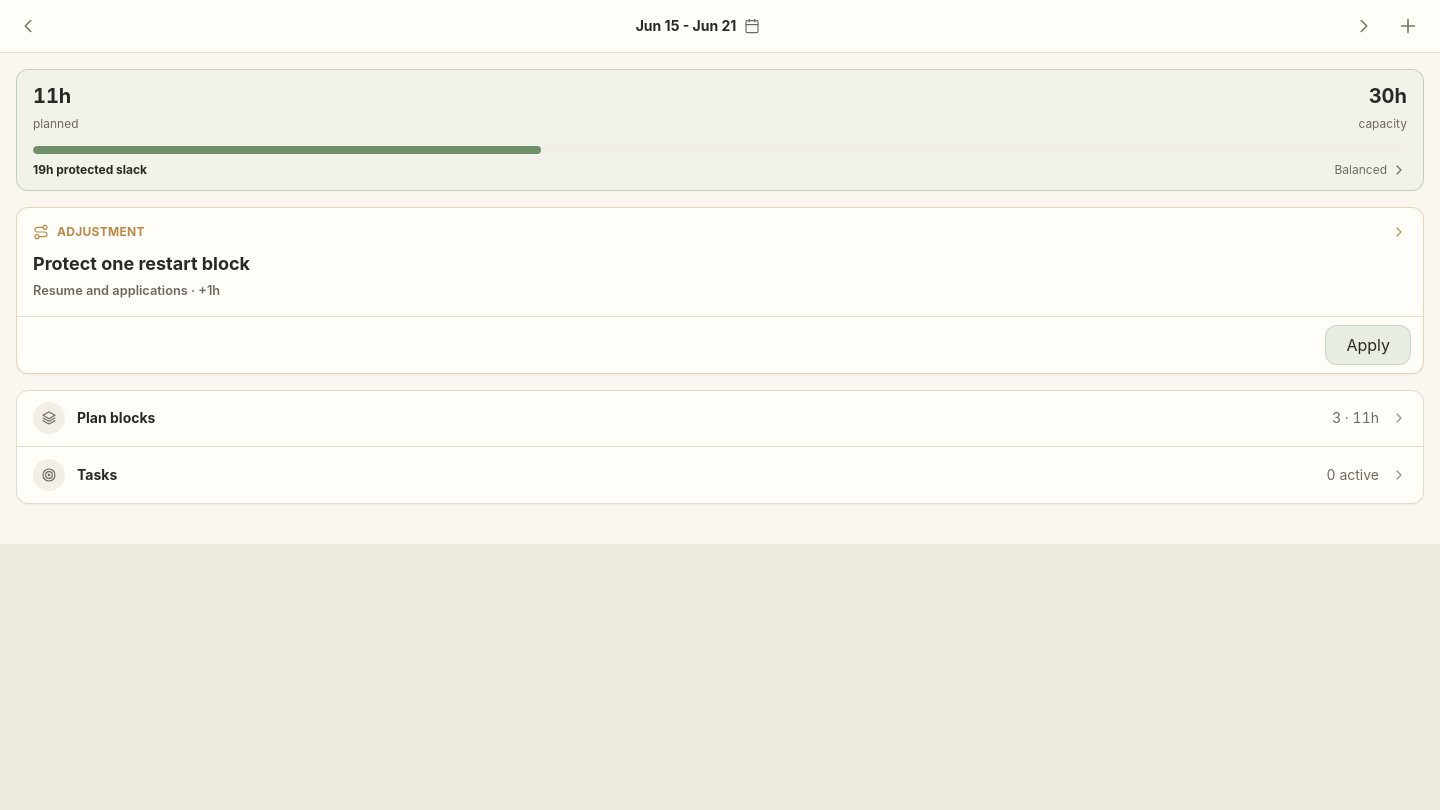
Test: PlanScreen › shows real balance values and a before/after adjustment without setup forms
Expected: the button with aria-label "Week balance: Balanced" shows "11h", [16,69,1424,191]
Expected: the button with aria-label "Apply adjustment" reads "Apply", [1325,325,1411,365]
Click the button with aria-label "Suggested adjustment: Protect one restart block".
click(720, 262)  # box [17,208,1423,316]
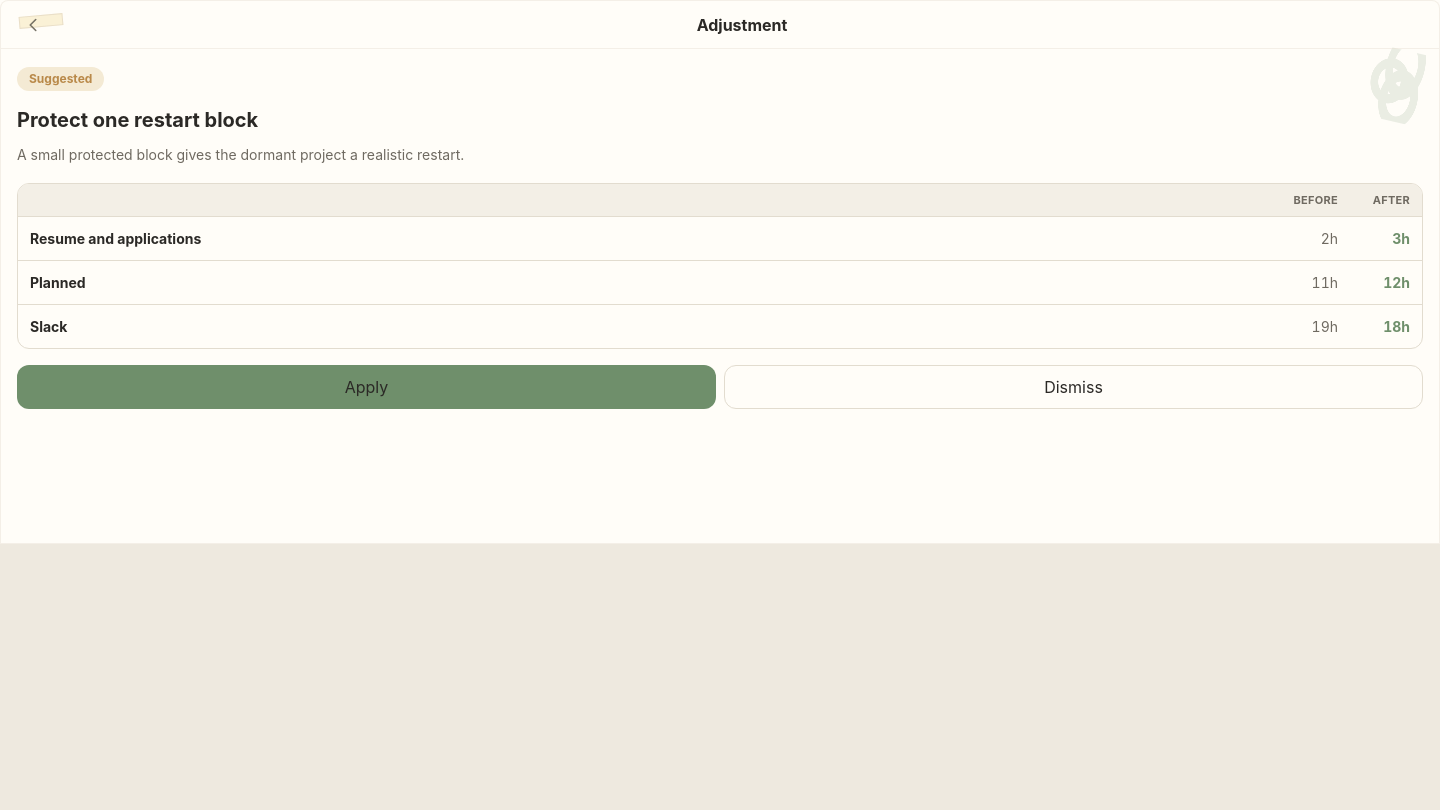
Result: the text "Before" is shown at [1294,192,1338,206]
Result: the text "After" is shown at [1373,192,1410,206]
Result: the text "3h" is shown at [1392,230,1410,246]
Click the button "Apply".
click(366, 387)  # box [17,365,716,409]
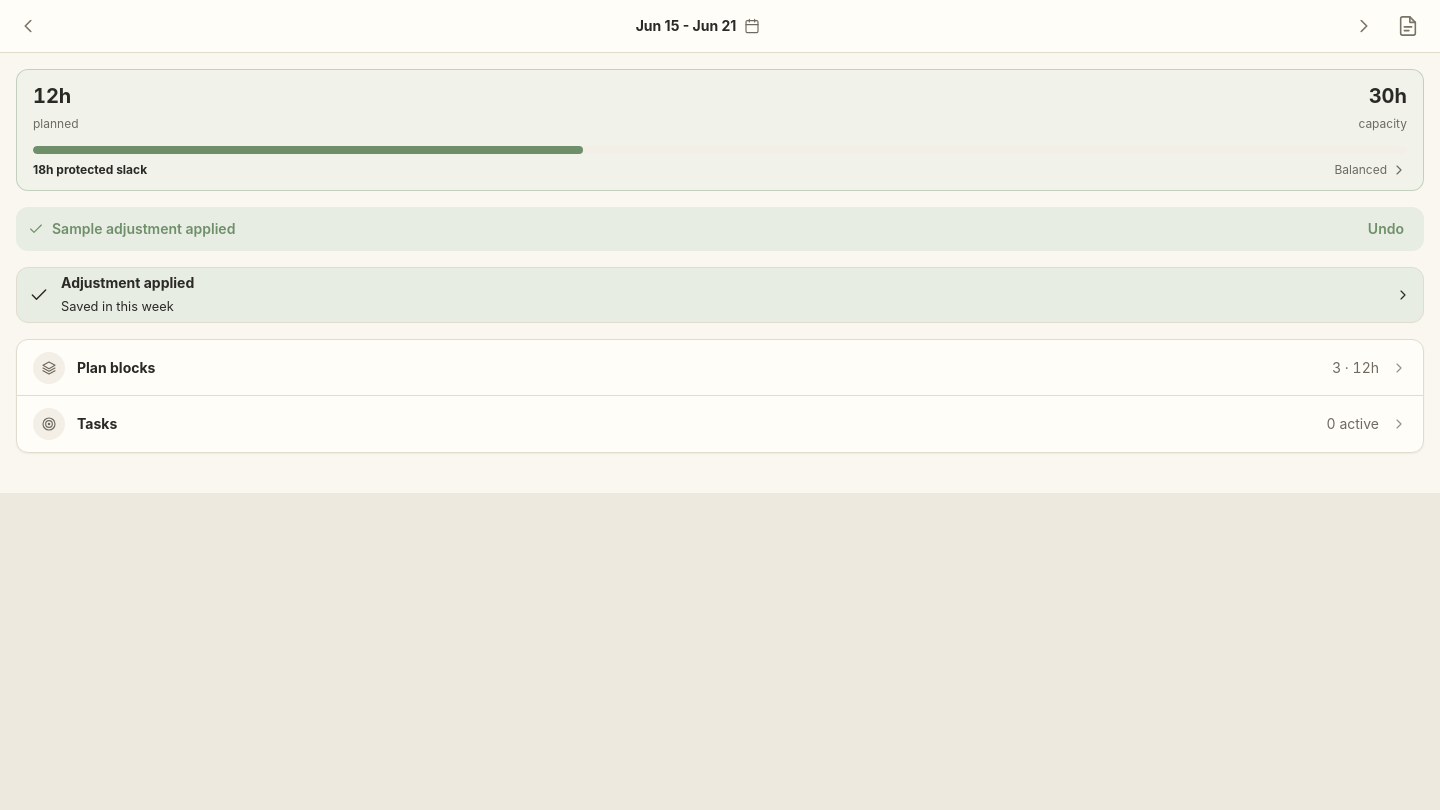
Result: the text "Sample adjustment applied" is shown at [52,220,235,237]
Click the button "Undo".
click(1386, 229)  # box [1360,215,1412,243]
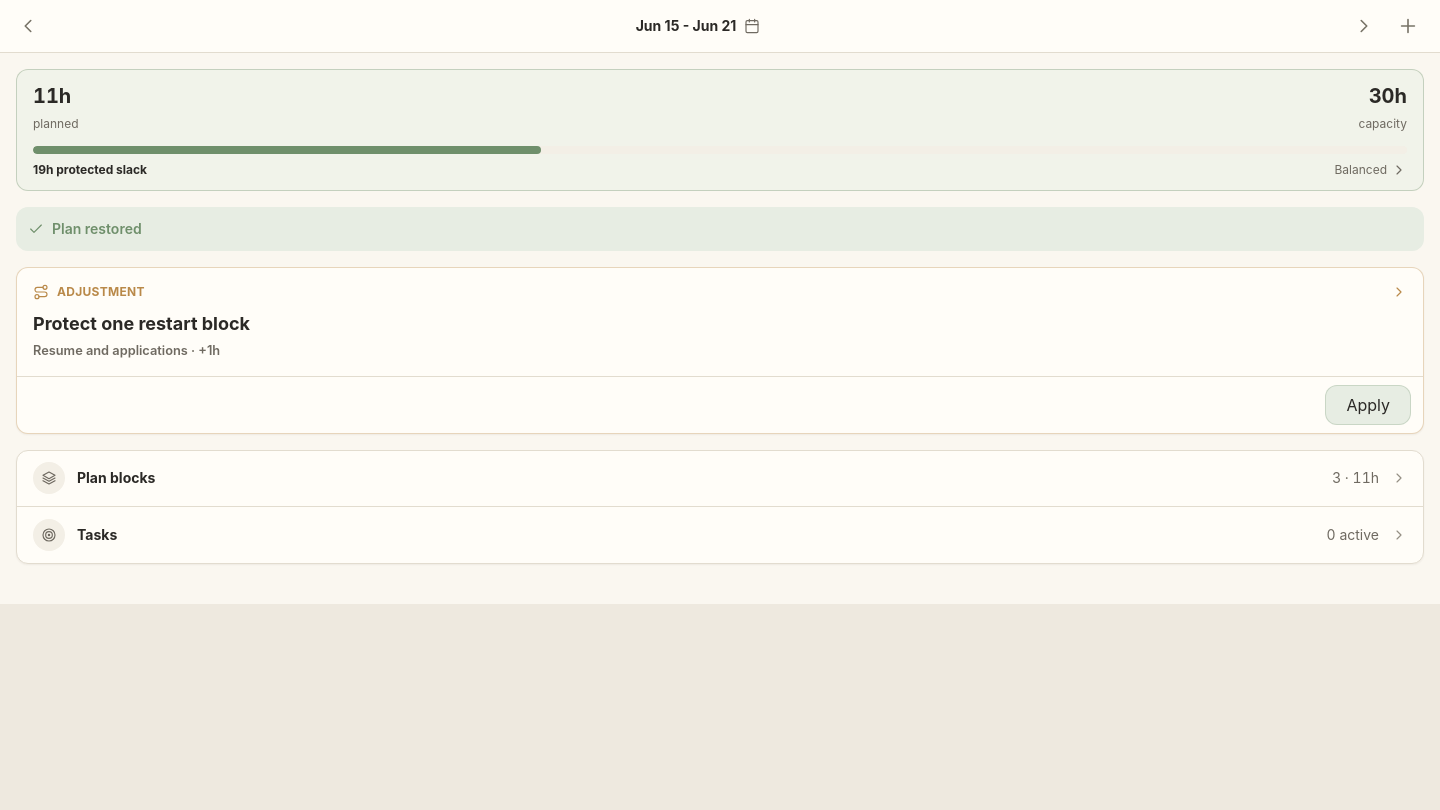
Result: the text "Plan restored" is shown at [52,220,142,237]
